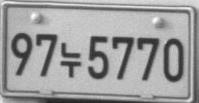0: (162, 36, 184, 82)
5: (86, 34, 110, 80)
7: (34, 32, 58, 77), (111, 35, 134, 80), (136, 36, 159, 81)
9: (10, 31, 33, 76)
누: (59, 41, 81, 78)
